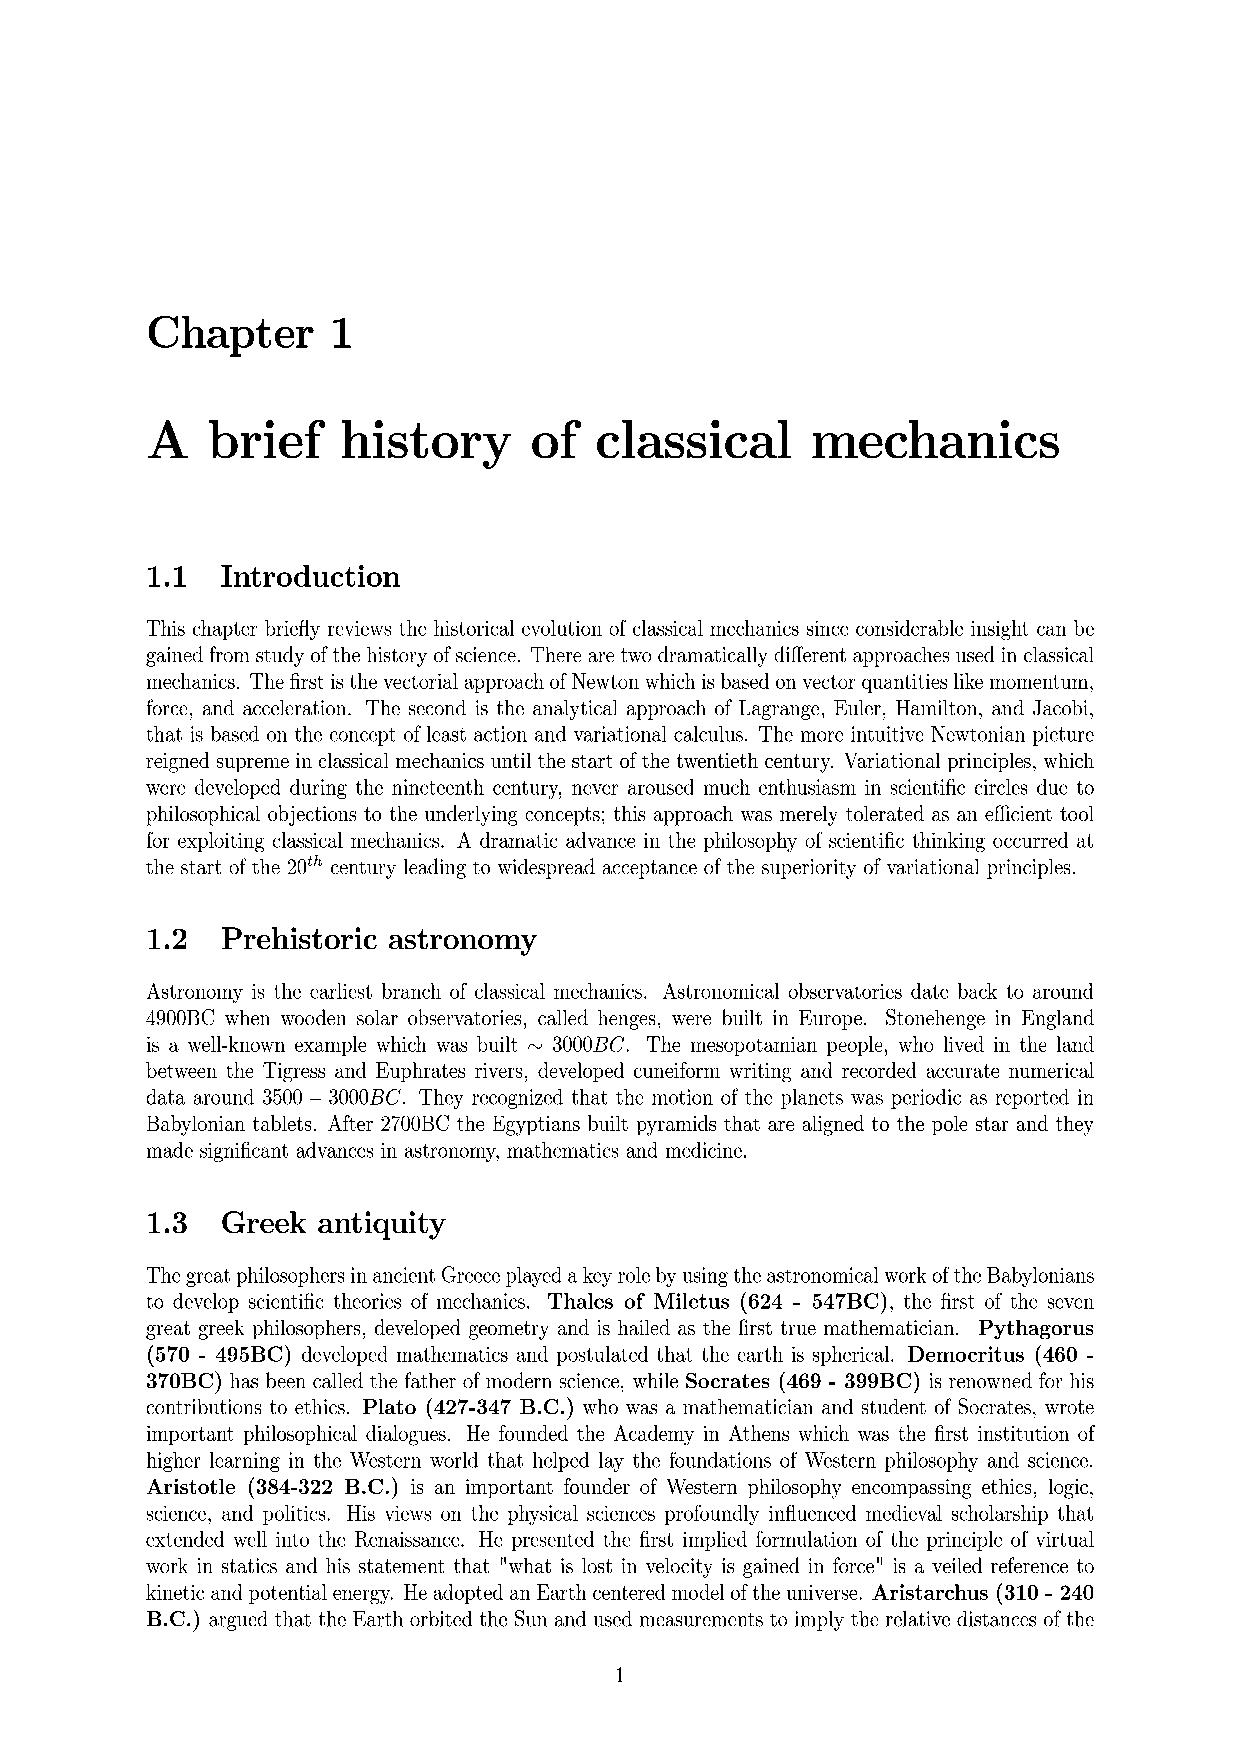chapter: (145, 310, 1060, 472), (148, 925, 539, 960), (145, 1206, 446, 1241), (144, 560, 401, 589)
content: (144, 1264, 1094, 1633), (142, 615, 1095, 883), (142, 981, 1094, 1166)
content_pagenumber: (612, 1663, 627, 1690)
